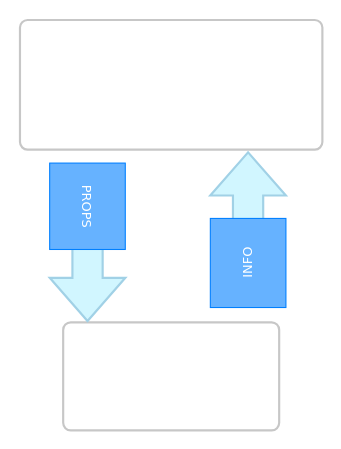
This 341x449 diagram has some shape labels left out. Each missing label, with the box of its shape:
CHILD: (62, 321, 280, 431)
PARENT: (18, 18, 323, 150)
